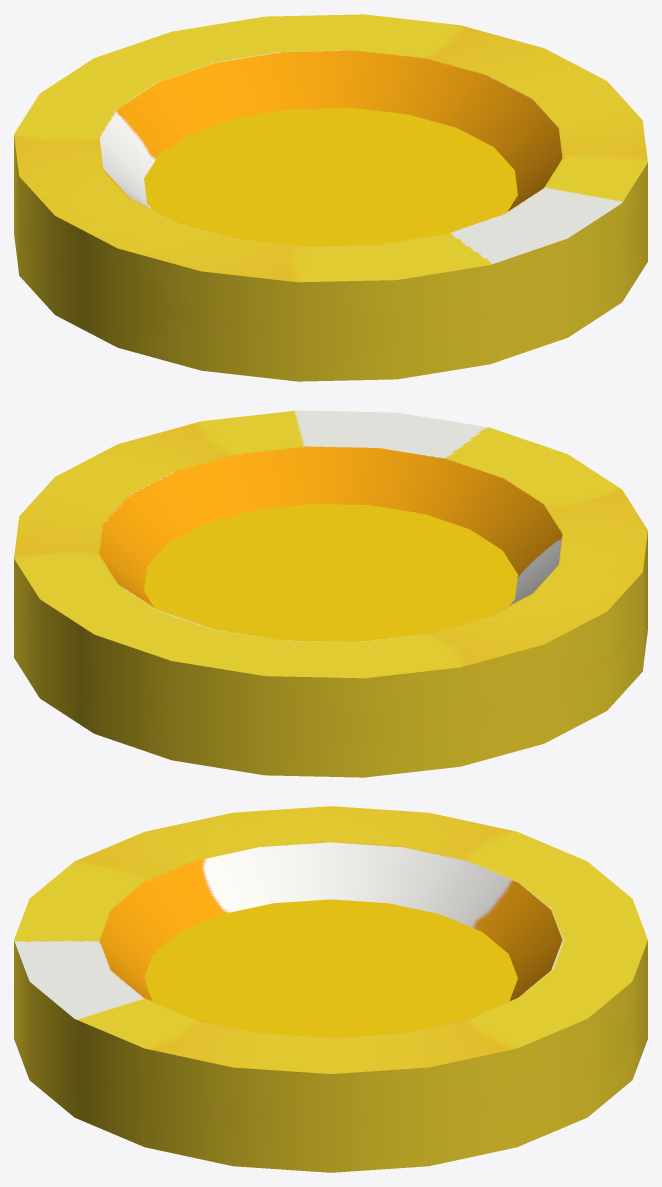
The model's file is Coin.fbx.
3 renders of one model, top to bottom at view 1: azimuth 30°, elevation 25°; view 2: azimuth 150°, elevation 25°; view 3: azimuth 270°, elevation 25°, orthographic.
Parts seen in each view (by area): view 1: Coin; view 2: Coin; view 3: Coin.
Part boxes in pixels (x1,y1,x2,y2): Coin: (14, 14, 647, 381); Coin: (14, 410, 647, 777); Coin: (14, 806, 647, 1172).
Bounding box in the file's own units: 2 × 0.3437 × 2.
